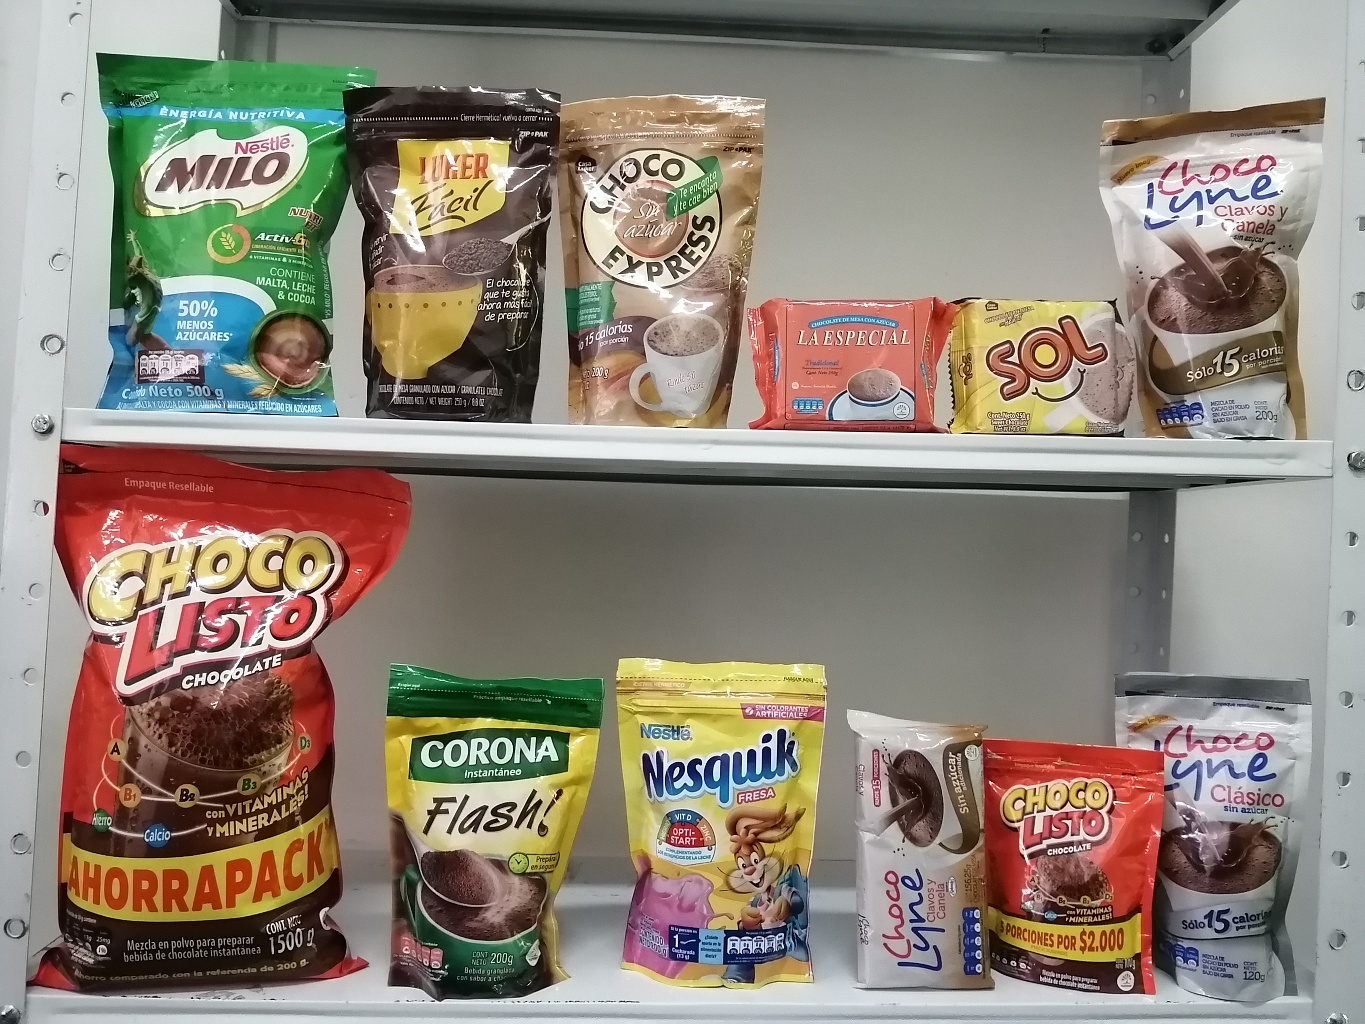COL0170103DYP1,500: (14, 430, 417, 1005)
COL0170205DYP50000: (61, 35, 403, 427)
COL0170305DYP20000: (584, 641, 834, 1005)
